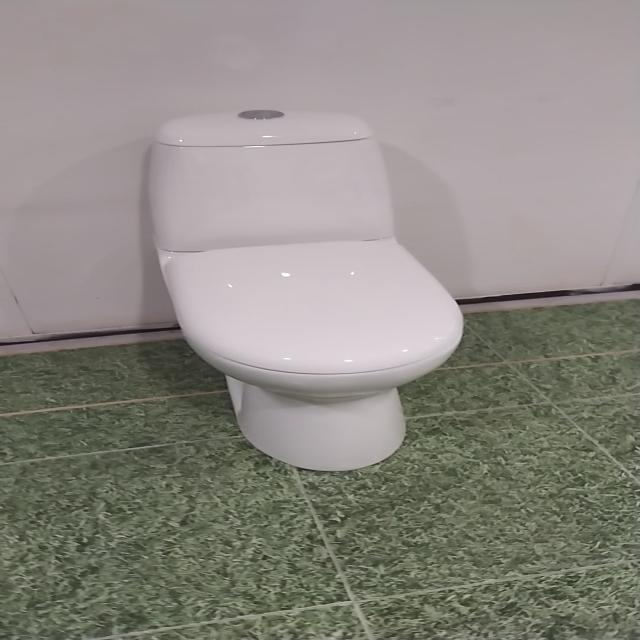toilet: (146, 109, 464, 472)
